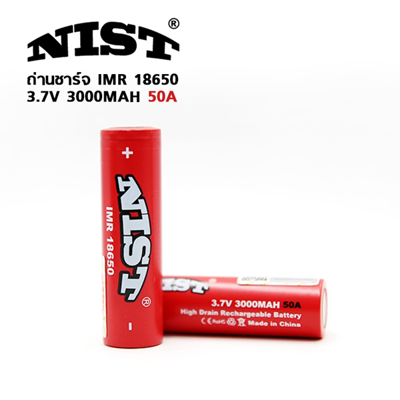Battery: (96, 121, 170, 352), (160, 270, 333, 346)
